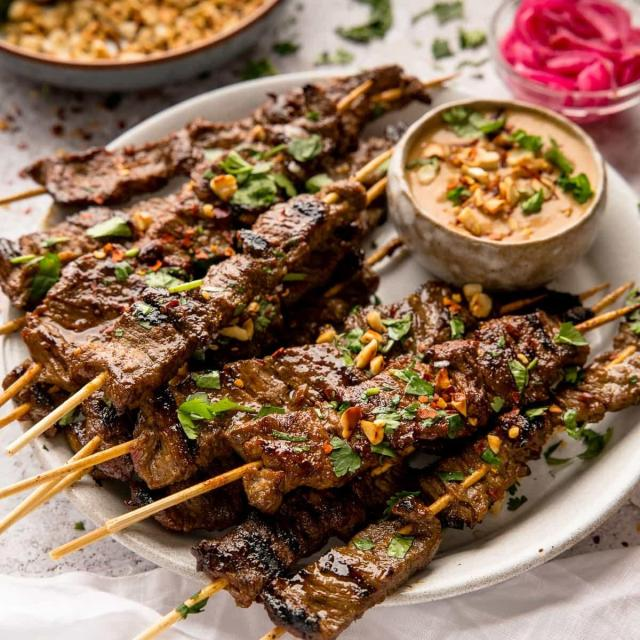Sate: (55, 114, 620, 583)
